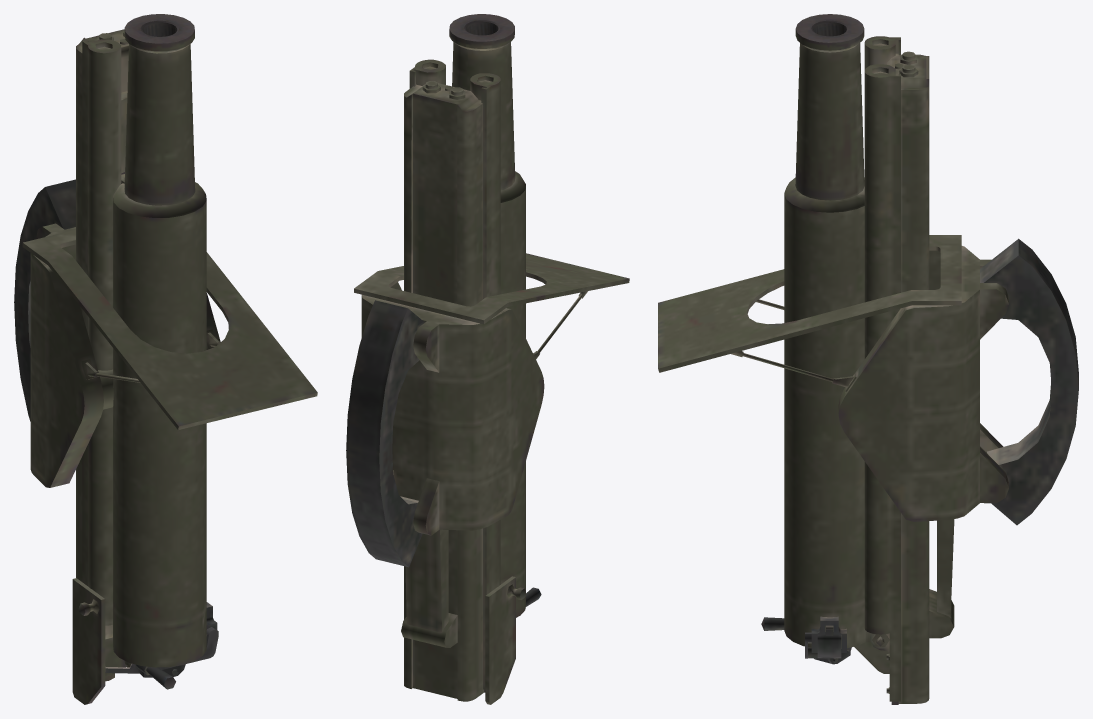
File: Gun_01.glb
The picture shows the model from 3 angles, left to right: view 1: azimuth 30°, elevation 25°; view 2: azimuth 150°, elevation 25°; view 3: azimuth 270°, elevation 25°; orthographic projection. The views are drawn at different scales.
Visible parts, largest first — view 1: set_0_group_0; view 2: set_0_group_0; view 3: set_0_group_0.
Part boxes in pixels (x1=…): set_0_group_0: x1=14, y1=14, x2=317, y2=704; set_0_group_0: x1=346, y1=14, x2=629, y2=704; set_0_group_0: x1=658, y1=14, x2=1078, y2=704.
Bounding box in the file's own units: 0.3545 × 1.64 × 0.938.
1 material, 1 textured.
